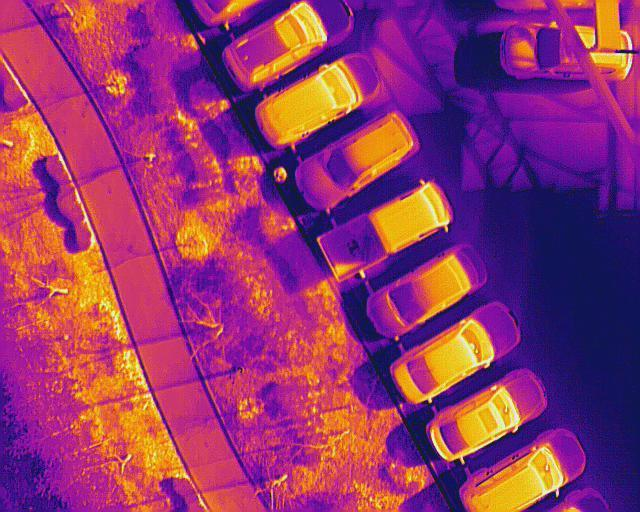No-Anomaly: (594, 0, 621, 47)
